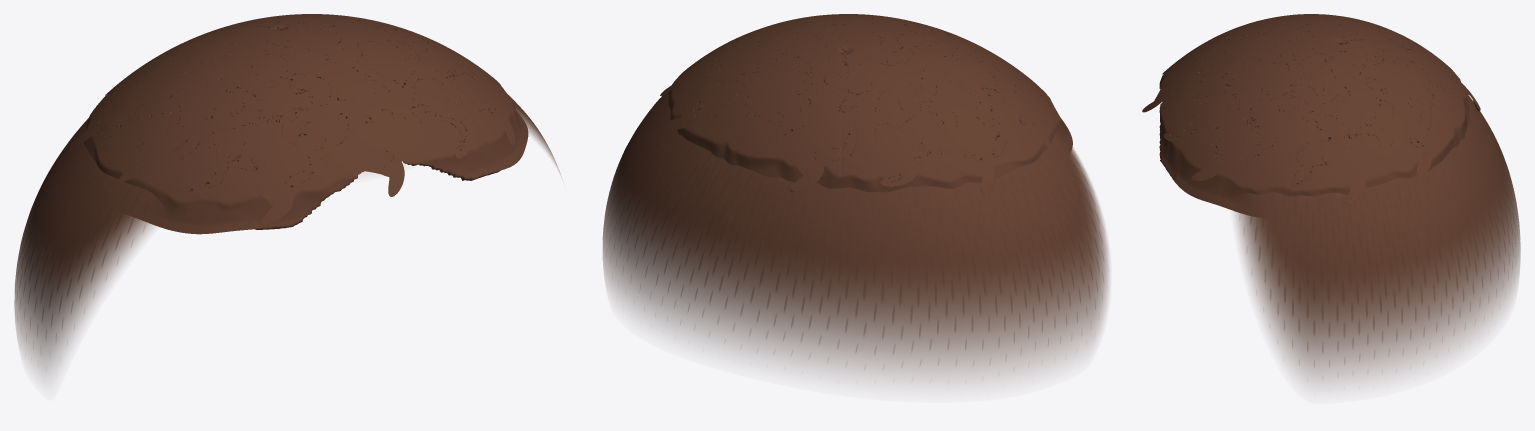
Rendered from Masculine-curly-top-cap258-hair.glb.
3 renders of one model, left to right at view 1: azimuth 30°, elevation 25°; view 2: azimuth 150°, elevation 25°; view 3: azimuth 270°, elevation 25°, orthographic. The views are drawn at different scales.
Visible parts, largest first — view 1: 226 hair / Hair252 / sculpted curl groups, 226 hair / Hair258 / smooth side fade, 226 hair / Hair258 / directional fade marks; view 2: 226 hair / Hair258 / smooth side fade, 226 hair / Hair252 / sculpted curl groups, 226 hair / Hair258 / directional fade marks; view 3: 226 hair / Hair258 / smooth side fade, 226 hair / Hair252 / sculpted curl groups, 226 hair / Hair258 / directional fade marks.
Boxes of the visible parts, x1,y1,x2,y2 form: 226 hair / Hair252 / sculpted curl groups: (71,14,528,234); 226 hair / Hair258 / smooth side fade: (14,94,561,377); 226 hair / Hair258 / directional fade marks: (16,99,532,335); 226 hair / Hair258 / smooth side fade: (603,93,1109,381); 226 hair / Hair252 / sculpted curl groups: (660,14,1072,194); 226 hair / Hair258 / directional fade marks: (611,93,1103,353); 226 hair / Hair258 / smooth side fade: (1233,94,1520,384); 226 hair / Hair252 / sculpted curl groups: (1142,14,1480,216); 226 hair / Hair258 / directional fade marks: (1238,100,1515,366).
Bounding box in the file's own units: 0.9705 × 0.584 × 0.7277.
